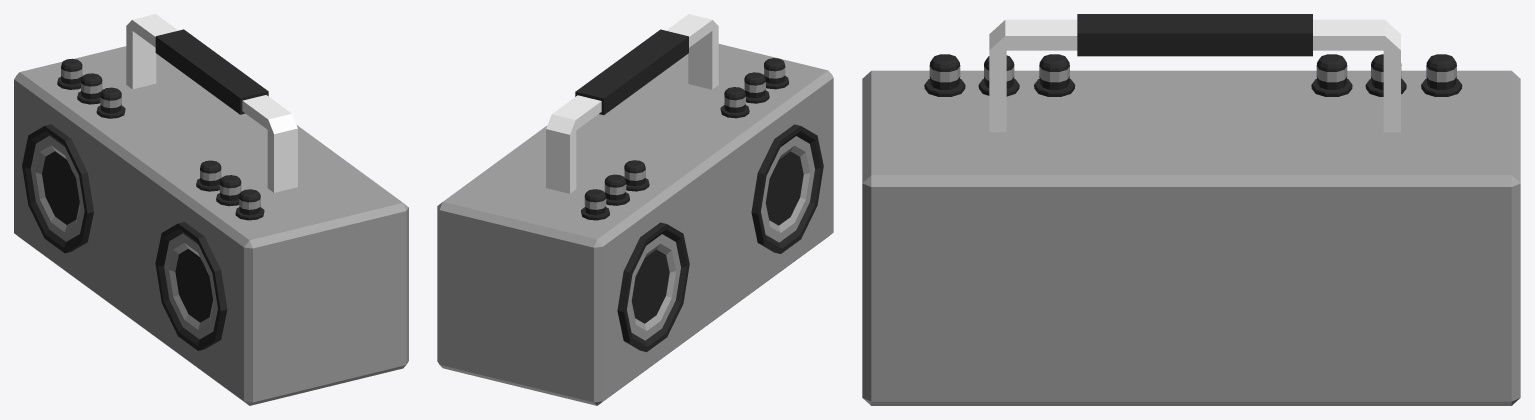
The model's file is Radio.fbx.
3 views of the same model, side by side, from view 1: azimuth 30°, elevation 25°; view 2: azimuth 150°, elevation 25°; view 3: azimuth 270°, elevation 25° (orthographic). The views are drawn at different scales.
Visible parts, largest first — view 1: Radio; view 2: Radio; view 3: Radio.
Part boxes in pixels (x1,y1,x2,y2): Radio: (14,14,408,405); Radio: (437,14,833,405); Radio: (862,14,1520,405).
Size of the model in its own units: 0.2371 by 0.3144 by 0.566.
